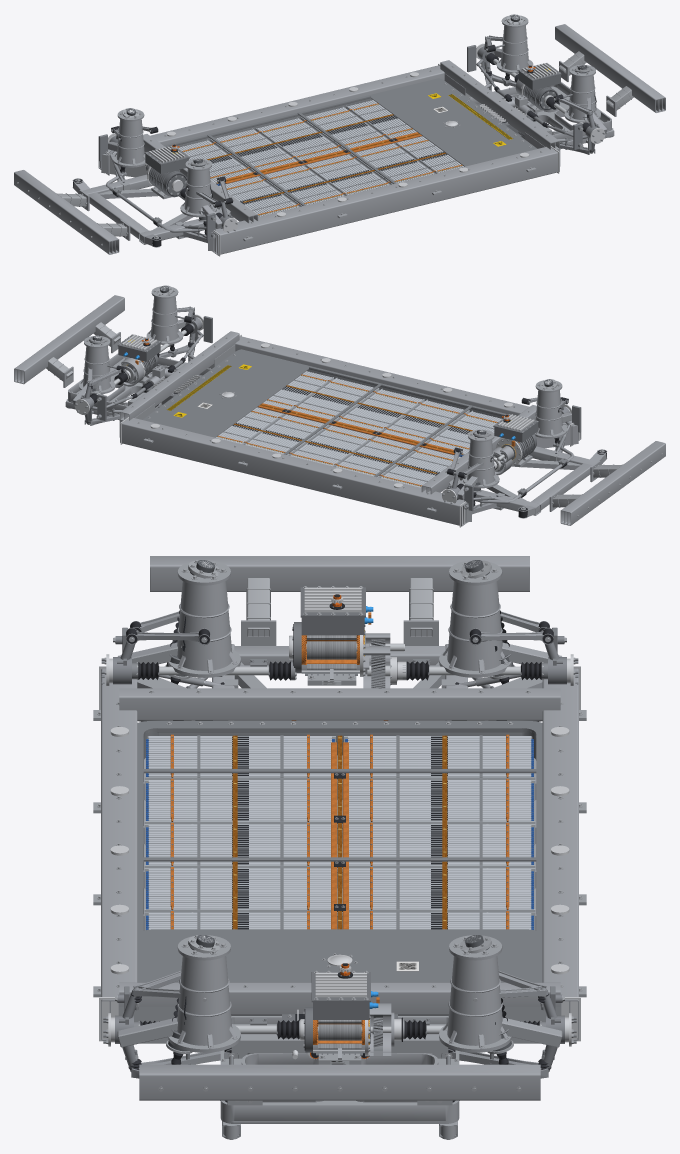
Rendered from nio-es8-xray.glb.
3 views of the same model, one above another, from view 1: azimuth 30°, elevation 25°; view 2: azimuth 150°, elevation 25°; view 3: azimuth 270°, elevation 25° (orthographic). The views are drawn at different scales.
Parts seen in each view (by area): view 1: XR_Frame_Floor, XR_Battery, XR_Battery_Lid, XR_Frame_CrashF, XR_Frame_CrashR, XR_Frame_SubR, XR_Battery_Busbars, XR_Susp_RL_Tower, XR_Frame_SubF, XR_Susp_RR_Tower, XR_Susp_FL_Tower, XR_Susp_FR_Tower (+12 smaller); view 2: XR_Frame_Floor, XR_Battery, XR_Battery_Lid, XR_Frame_CrashF, XR_Frame_CrashR, XR_Frame_SubR, XR_Battery_Busbars, XR_Susp_RR_Tower, XR_Susp_FR_Tower, XR_Susp_RL_Tower, XR_Frame_SubF, XR_Susp_FL_Tower (+13 smaller); view 3: XR_Battery, XR_Frame_Floor, XR_Battery_Lid, XR_Frame_CrashF, XR_Frame_CrashR, XR_Frame_SubF, XR_Susp_FL_Tower, XR_Susp_FR_Tower, XR_Susp_RL_Tower, XR_Susp_RR_Tower, XR_Battery_Busbars, XR_Drive_R_Inverter (+25 smaller).
Boxes of the visible parts, <box> form: XR_Frame_Floor: <box>98,60,560,256</box>; XR_Battery: <box>178,100,464,216</box>; XR_Battery_Lid: <box>163,78,537,216</box>; XR_Frame_CrashF: <box>555,24,665,116</box>; XR_Frame_CrashR: <box>14,170,130,254</box>; XR_Frame_SubR: <box>72,174,219,247</box>; XR_Battery_Busbars: <box>182,103,462,214</box>; XR_Susp_RL_Tower: <box>108,109,145,167</box>; XR_Frame_SubF: <box>469,82,614,149</box>; XR_Susp_RR_Tower: <box>180,158,222,228</box>; XR_Susp_FL_Tower: <box>494,15,533,73</box>; XR_Susp_FR_Tower: <box>564,64,607,134</box>; XR_Frame_Floor: <box>119,331,581,527</box>; XR_Battery: <box>215,371,502,487</box>; XR_Battery_Lid: <box>142,349,508,487</box>; XR_Frame_CrashF: <box>14,295,124,387</box>; XR_Frame_CrashR: <box>549,441,665,525</box>; XR_Frame_SubR: <box>460,446,607,518</box>; XR_Battery_Busbars: <box>218,374,497,486</box>; XR_Susp_RR_Tower: <box>534,380,571,438</box>; XR_Susp_FR_Tower: <box>146,286,185,344</box>; XR_Susp_RL_Tower: <box>457,429,499,499</box>; XR_Frame_SubF: <box>65,353,211,420</box>; XR_Susp_FL_Tower: <box>72,335,115,405</box>; XR_Battery: <box>144,735,535,930</box>; XR_Frame_Floor: <box>93,666,586,1043</box>; XR_Battery_Lid: <box>137,721,542,982</box>; XR_Frame_CrashF: <box>139,1064,540,1105</box>; XR_Frame_CrashR: <box>150,556,529,645</box>; XR_Frame_SubF: <box>220,1016,459,1139</box>; XR_Susp_FL_Tower: <box>439,935,562,1052</box>; XR_Susp_FR_Tower: <box>117,935,240,1052</box>; XR_Susp_RL_Tower: <box>439,560,561,677</box>; XR_Susp_RR_Tower: <box>118,560,240,677</box>; XR_Battery_Busbars: <box>170,734,509,929</box>; XR_Drive_R_Inverter: <box>300,586,373,634</box>.
Bounding box in the file's own units: 4.76 × 0.6883 × 1.82.
Materials: 29 (12 with a texture image).
